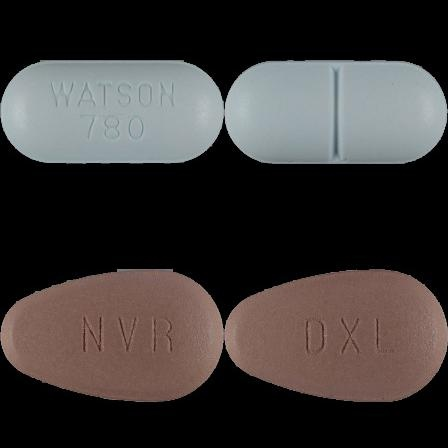43353-061: (0, 0, 224, 224)
